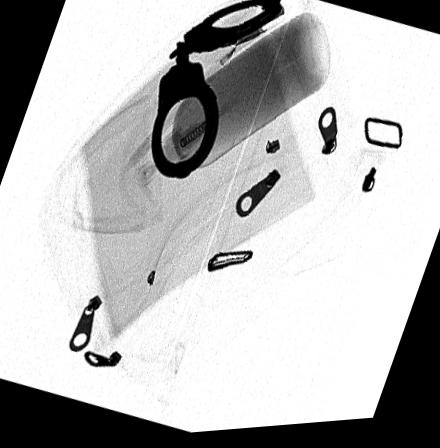HandCuffs: (151, 0, 282, 183)
